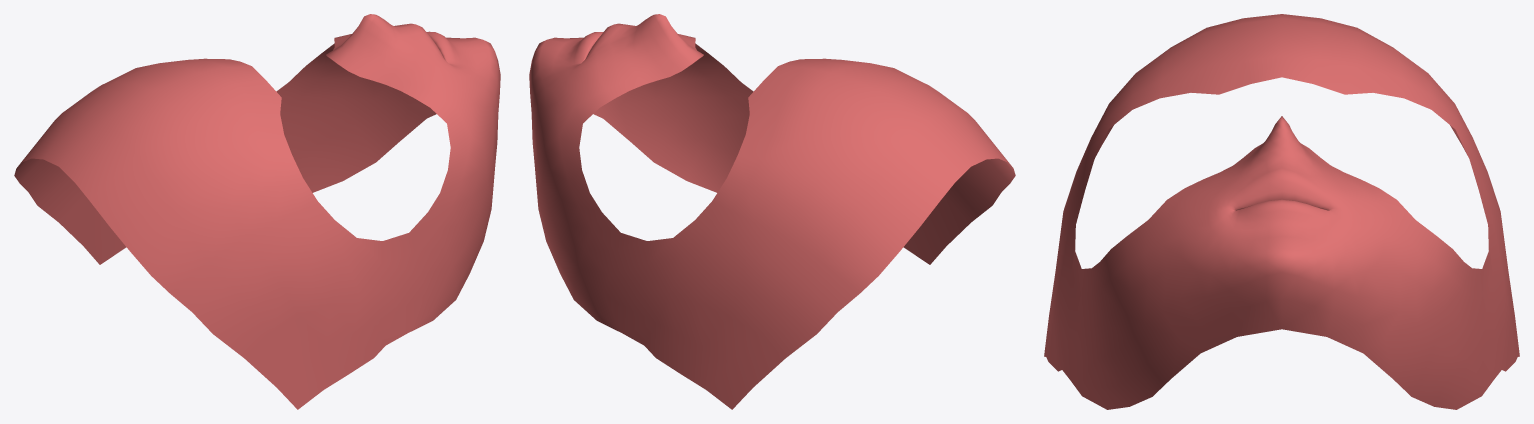
3 renders of one model, left to right at view 1: azimuth 30°, elevation 25°; view 2: azimuth 150°, elevation 25°; view 3: azimuth 270°, elevation 25°, orthographic. The views are drawn at different scales.
Visible parts, largest first — view 1: Model; view 2: Model; view 3: Model.
Boxes of the visible parts, box(x1,y1,x2,y2) form: Model: box(14, 14, 500, 409); Model: box(529, 14, 1015, 409); Model: box(1044, 14, 1519, 409).
Bounding box in the file's own units: 0.2231 × 0.138 × 0.1756.
